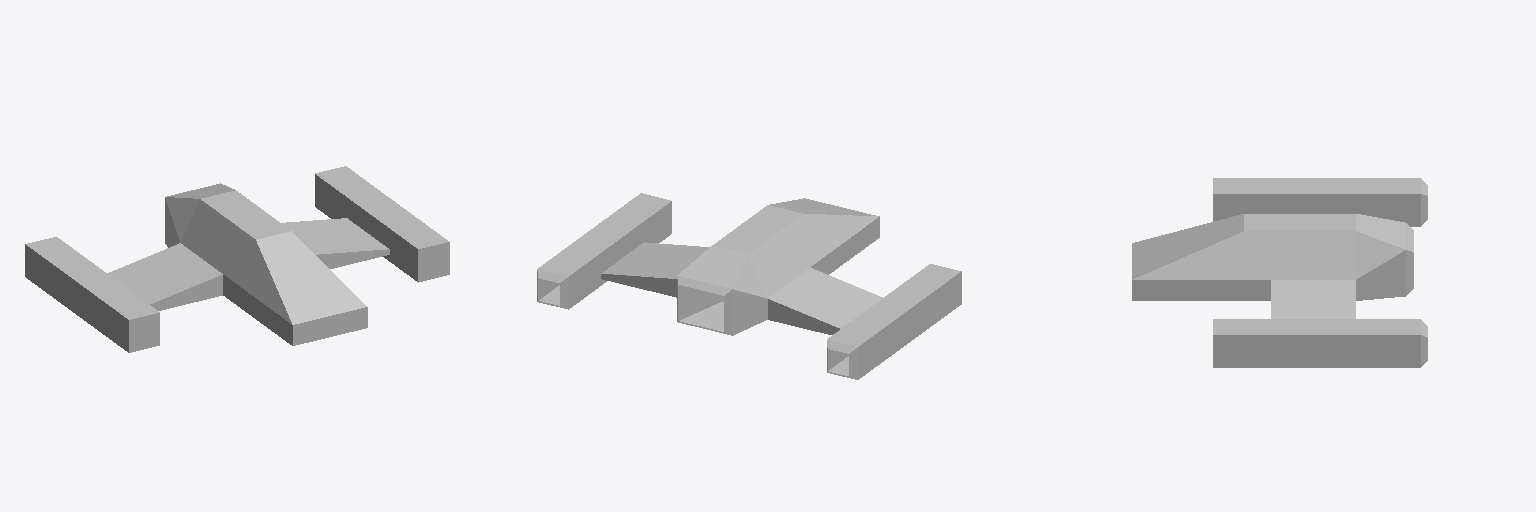
Rendered from ship_2.obj.
3 renders of one model, left to right at view 1: azimuth 30°, elevation 25°; view 2: azimuth 150°, elevation 25°; view 3: azimuth 270°, elevation 25°, orthographic.
Parts seen in each view (by area): view 1: Cube; view 2: Cube; view 3: Cube.
Part boxes in pixels (bbox=[...]): Cube: bbox=[25, 166, 449, 352]; Cube: bbox=[537, 193, 961, 379]; Cube: bbox=[1132, 178, 1427, 367].
Size of the model in its own units: 0.8615 by 0.1728 by 0.6906.